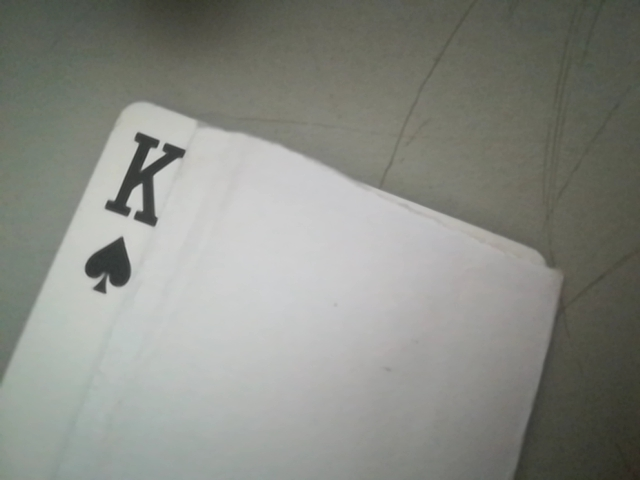ht k: (65, 117, 205, 304)
